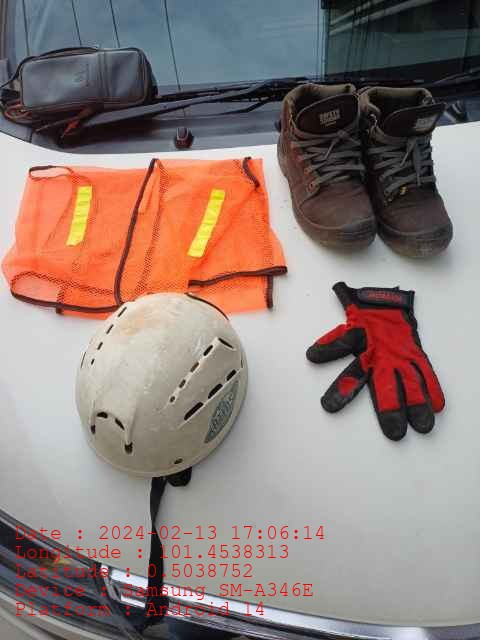HELM: (75, 292, 249, 477)
ROMPI: (11, 163, 275, 303)
SARUNG_TANGAN: (306, 282, 445, 442)
SEPATU: (275, 83, 450, 260)
